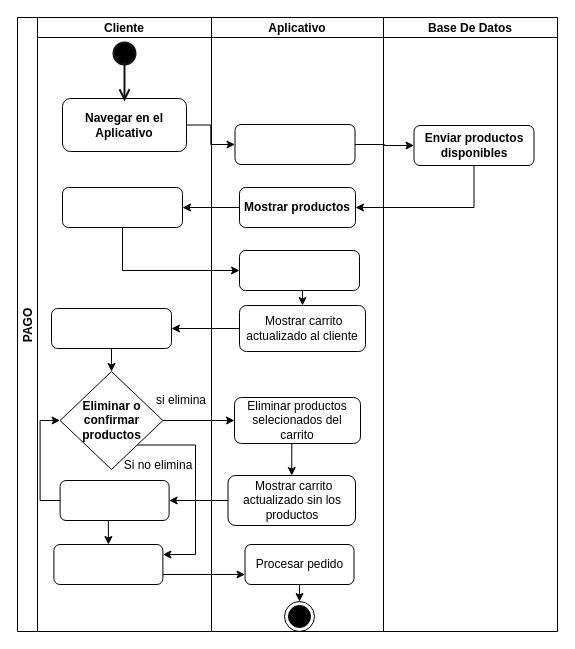
The diagram is 575 pixels wide and 649 high, and some of its shapes have lost their labels. Here are the shapes that lost their labels. From the top down, the centre of each, then its label:
point 294,144: Solicitar productos
point 122,207: Seleccionar y agregar al carrito
point 299,270: Actualizar carrito
point 111,328: Revisar resumen de carrito
point 114,500: Ver carrito actualizado
point 108,564: Confirmar lista de productos
